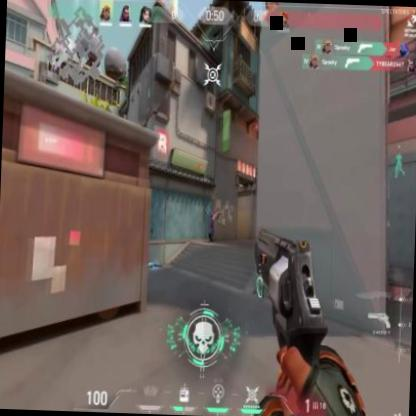enemy: (208, 208, 218, 242)
enemy_head: (212, 208, 216, 213)
